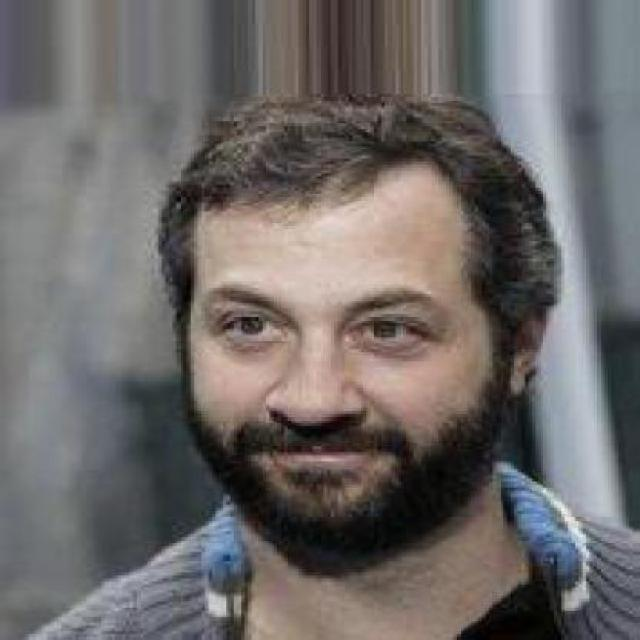closed-mouth: (252, 437, 394, 477)
